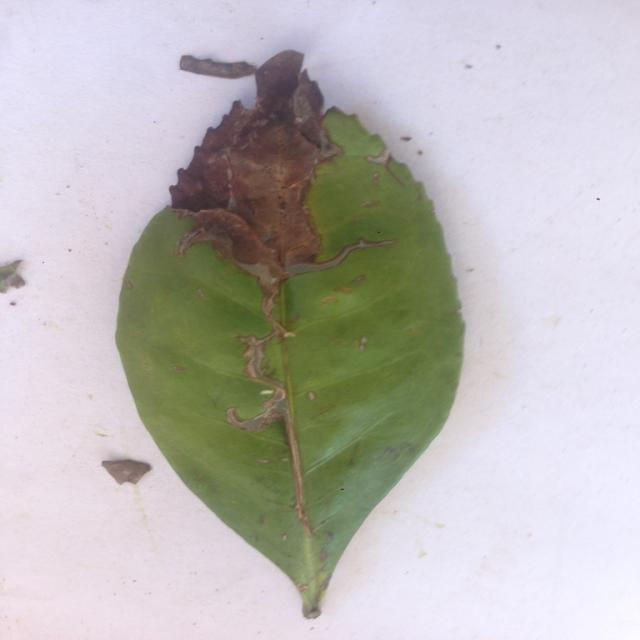Brown Blight: (112, 49, 480, 631)
